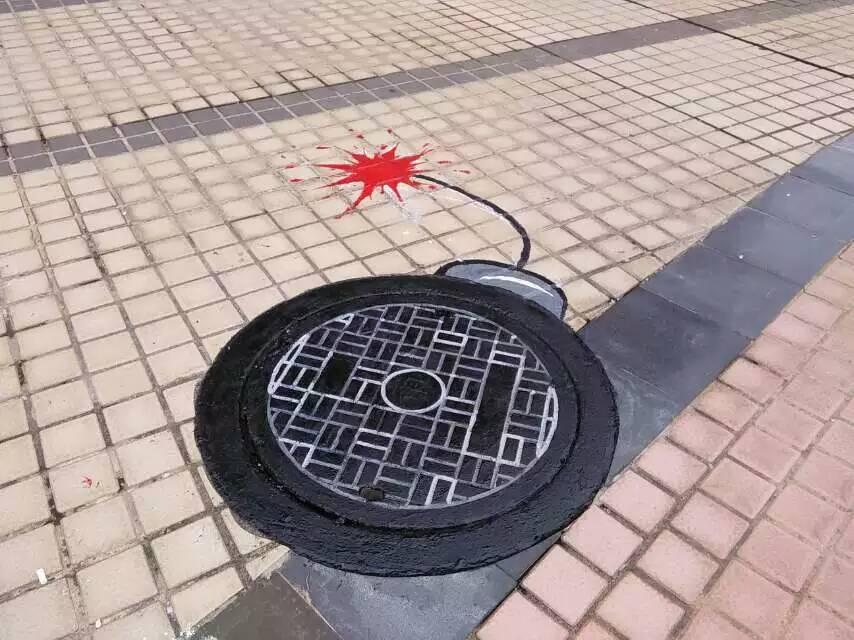wellcover: (204, 261, 624, 564)
